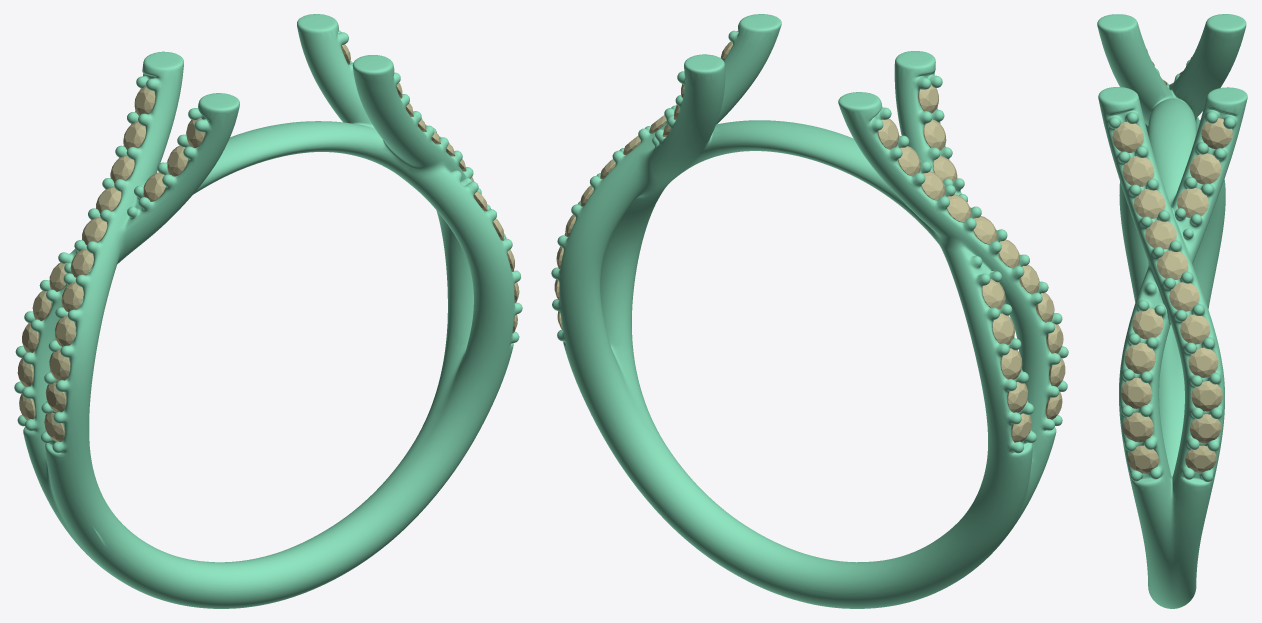
3 renders of one model, left to right at view 1: azimuth 30°, elevation 25°; view 2: azimuth 150°, elevation 25°; view 3: azimuth 270°, elevation 25°, orthographic. The views are drawn at different scales.
Parts seen in each view (by area): view 1: Metal02; view 2: Metal02; view 3: Metal02, Diamond_Gem.020, Diamond_Gem.026, Diamond_Gem.034, Diamond_Gem.022, Diamond_Gem.033, Diamond_Gem.025, Diamond_Gem.035, Diamond_Gem.032, Diamond_Gem.024, Diamond_Gem.030, Diamond_Gem.027 (+8 smaller).
Part boxes in pixels (left/top/right/bottom): Metal02: left=14, top=14, right=522, bottom=608; Metal02: left=551, top=14, right=1068, bottom=608; Metal02: left=1097, top=14, right=1247, bottom=608; Diamond_Gem.020: left=1189, top=153, right=1221, bottom=184; Diamond_Gem.026: left=1124, top=342, right=1155, bottom=374; Diamond_Gem.034: left=1112, top=122, right=1143, bottom=152; Diamond_Gem.022: left=1132, top=308, right=1163, bottom=339; Diamond_Gem.033: left=1122, top=156, right=1154, bottom=186; Diamond_Gem.025: left=1121, top=377, right=1152, bottom=408; Diamond_Gem.035: left=1191, top=381, right=1222, bottom=411; Diamond_Gem.032: left=1134, top=189, right=1165, bottom=218; Diamond_Gem.024: left=1122, top=412, right=1153, bottom=442; Diamond_Gem.030: left=1157, top=250, right=1188, bottom=279; Diamond_Gem.027: left=1180, top=314, right=1210, bottom=344.
Bounding box in the file's own units: 21.26 × 23.1 × 5.98.
